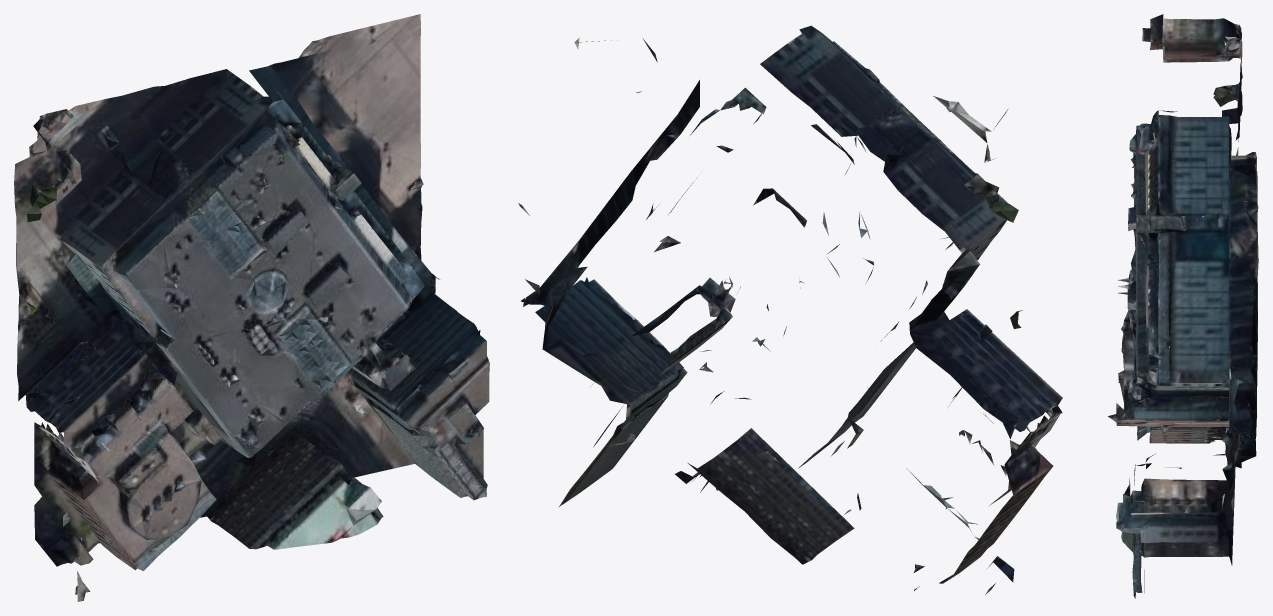
The model's file is Tile_+032_+020_L17_0002.glb.
The picture shows the model from 3 angles, left to right: view 1: azimuth 30°, elevation 25°; view 2: azimuth 150°, elevation 25°; view 3: azimuth 270°, elevation 25°; orthographic projection. The views are drawn at different scales.
Size of the model in its own units: 126 by 126 by 43.05.
1 material, 1 textured.
